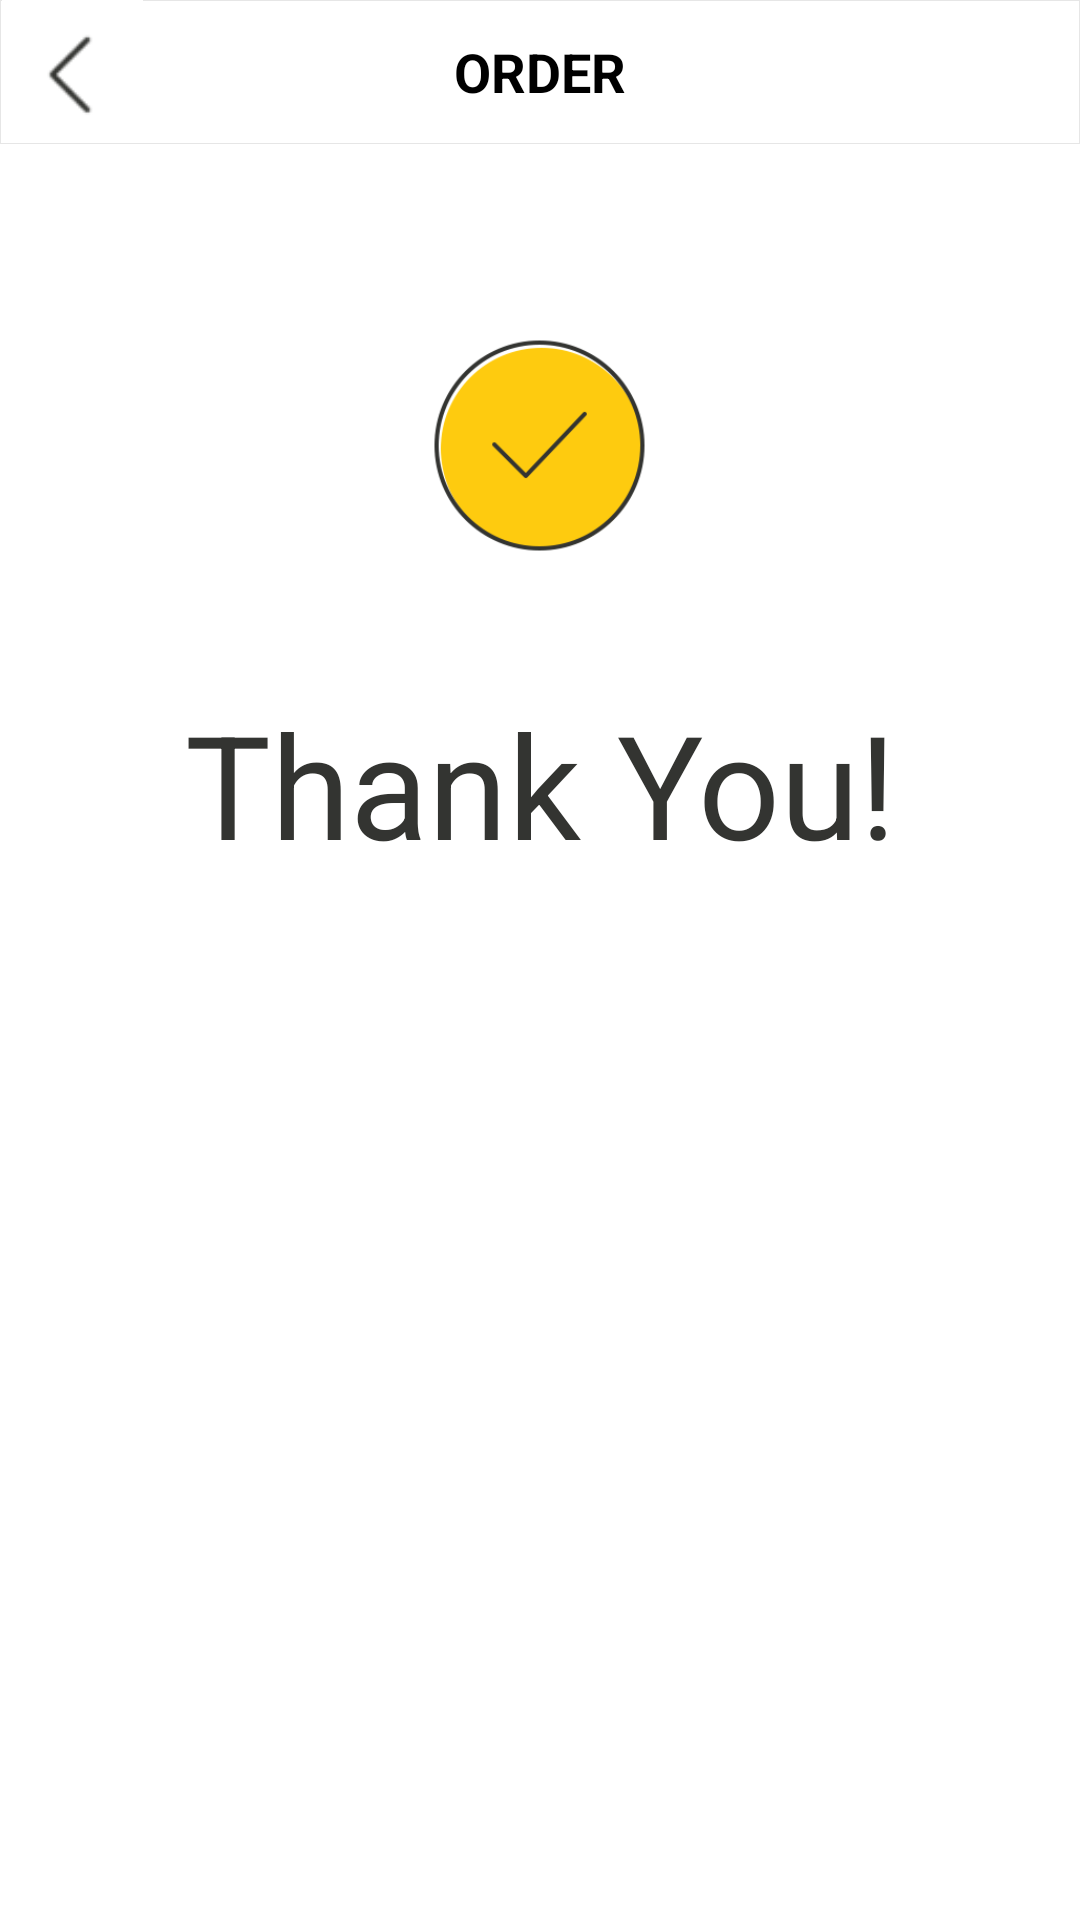

Icon click points for this 1080*1920 phone screenshot, format (x,y):
back: (70,74)
